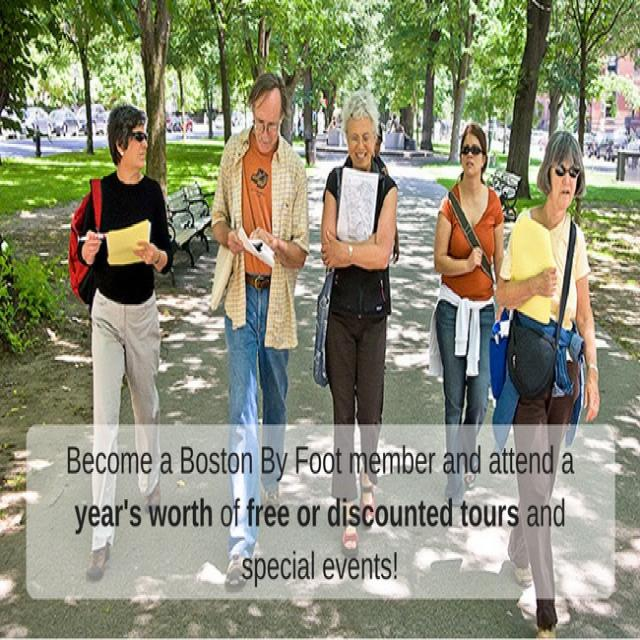body: (486, 125, 606, 638), (61, 98, 178, 586), (207, 66, 313, 602), (309, 83, 403, 563), (28, 109, 618, 179), (424, 117, 508, 510), (335, 120, 401, 402)
